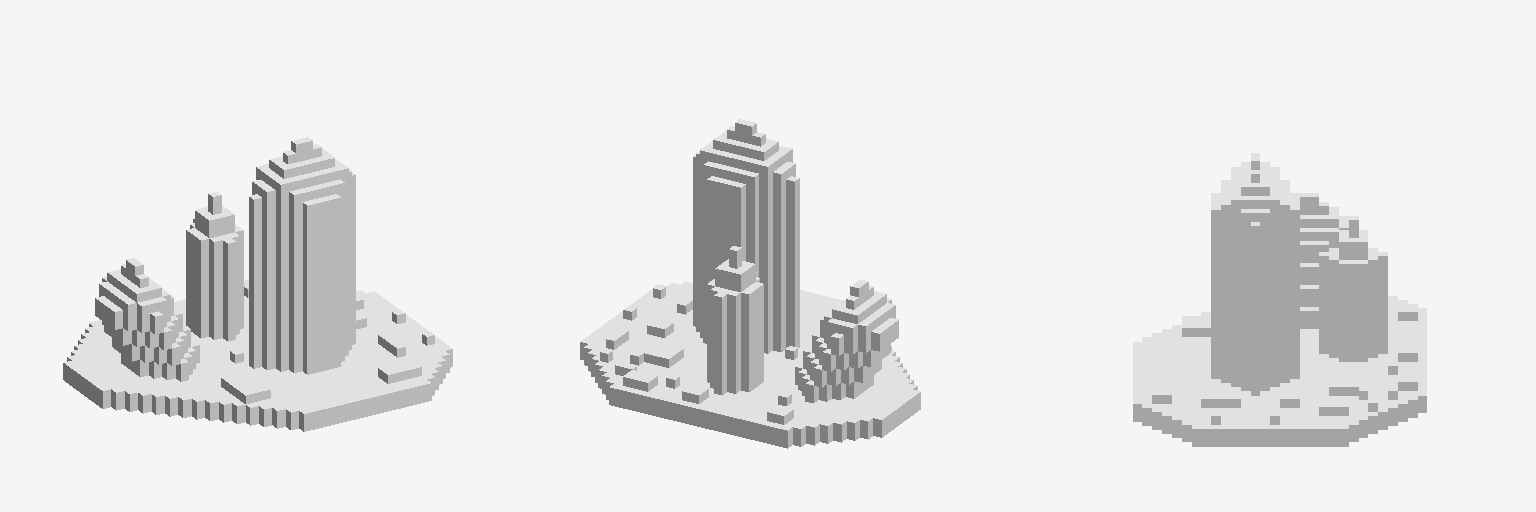
The model's file is Gold.obj.
The picture shows the model from 3 angles: view 1: azimuth 30°, elevation 25°; view 2: azimuth 150°, elevation 25°; view 3: azimuth 270°, elevation 25°; orthographic projection.
Bounding box in the file's own units: 36 × 26 × 30.